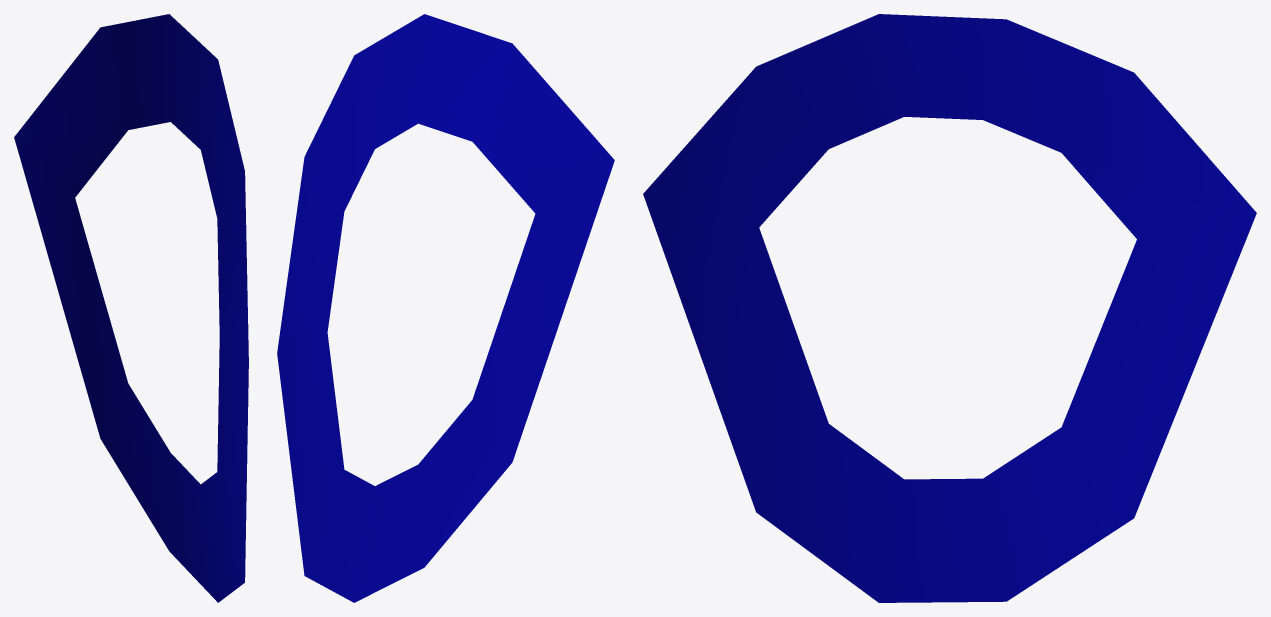
File: rocket.obj11.obj
3 renders of one model, left to right at view 1: azimuth 30°, elevation 25°; view 2: azimuth 150°, elevation 25°; view 3: azimuth 270°, elevation 25°, orthographic. The views are drawn at different scales.
Visible parts, largest first — view 1: obj11; view 2: obj11; view 3: obj11.
Boxes of the visible parts, x1=… form: obj11: x1=14, y1=14, x2=248, y2=602; obj11: x1=277, y1=14, x2=614, y2=602; obj11: x1=643, y1=14, x2=1256, y2=602.
Size of the model in its own units: 0.1473 by 0.8681 by 0.82.
